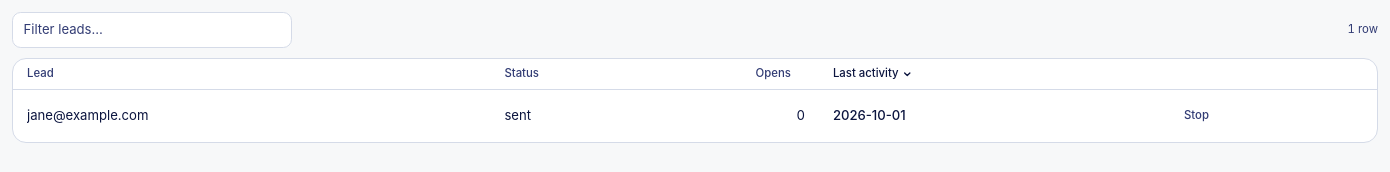
LeadActivityTable — stopping one recipient › keeps the button and says why when the stop was refused
What coordinates should you click on to do the following:
click the button "Stop"
I would click on:
 (1196, 116)
Its box is [1177,97,1216,135].
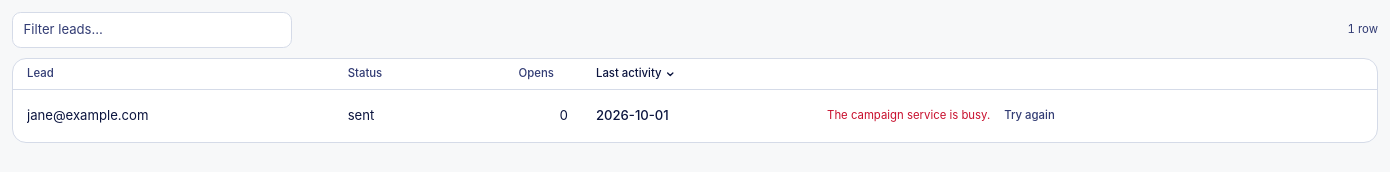
Expected: the button "Try again" is enabled, [997,97,1062,135]
Result: the message reads "The campaign service is busy." at [827,108,990,122]
